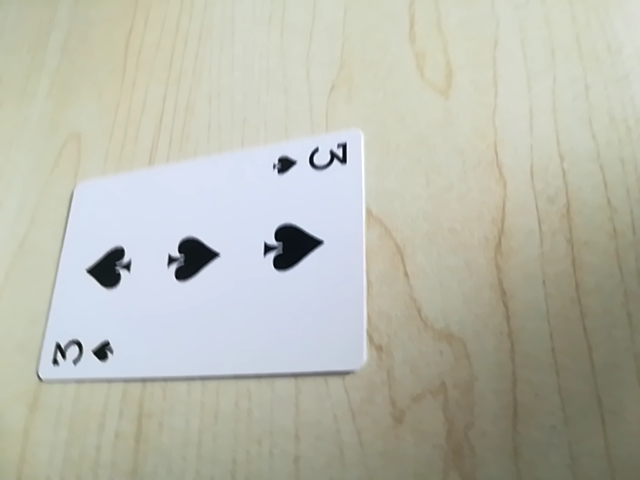ht 3: (268, 139, 355, 183), (45, 331, 119, 373)
